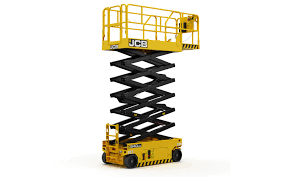Scissor Lift: (101, 3, 201, 169)
